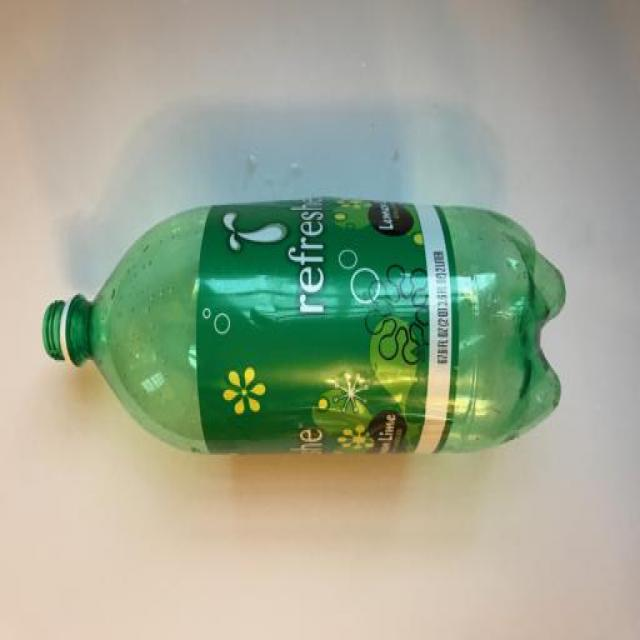plastic_bottle: (32, 183, 614, 501)
